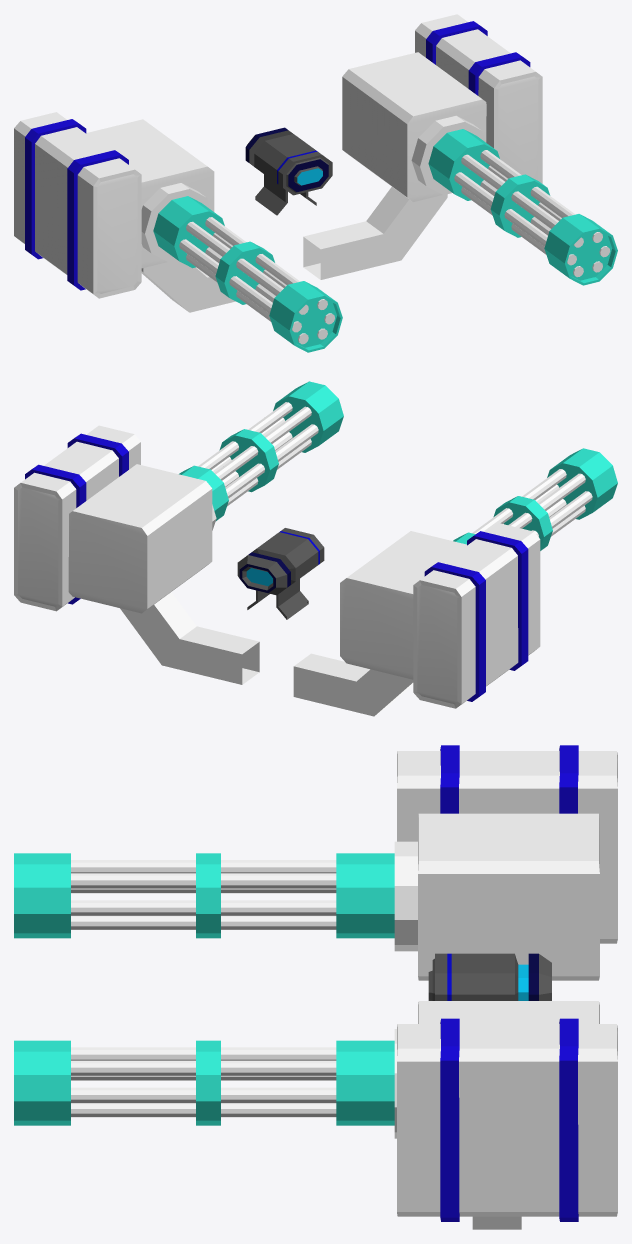
The model's file is CaoñonesYmira.FBX.
The picture shows the model from 3 angles, top to bottom: view 1: azimuth 30°, elevation 25°; view 2: azimuth 150°, elevation 25°; view 3: azimuth 270°, elevation 25°; orthographic projection. The views are drawn at different scales.
Parts seen in each view (by area): view 1: CañonDerecho, CañonIzq, lazer; view 2: CañonDerecho, CañonIzq, lazer; view 3: CañonDerecho, CañonIzq, lazer.
Boxes of the visible parts, bbox=[...] form: CañonDerecho: bbox=[303, 14, 617, 285]; CañonIzq: bbox=[14, 112, 342, 352]; lazer: bbox=[245, 127, 332, 215]; CañonDerecho: bbox=[14, 381, 343, 684]; CañonIzq: bbox=[293, 448, 617, 716]; lazer: bbox=[237, 528, 324, 619]; CañonDerecho: bbox=[14, 1001, 617, 1229]; CañonIzq: bbox=[14, 745, 617, 980]; lazer: bbox=[428, 953, 551, 1000].
Size of the model in its own units: 272 by 105 by 224.
